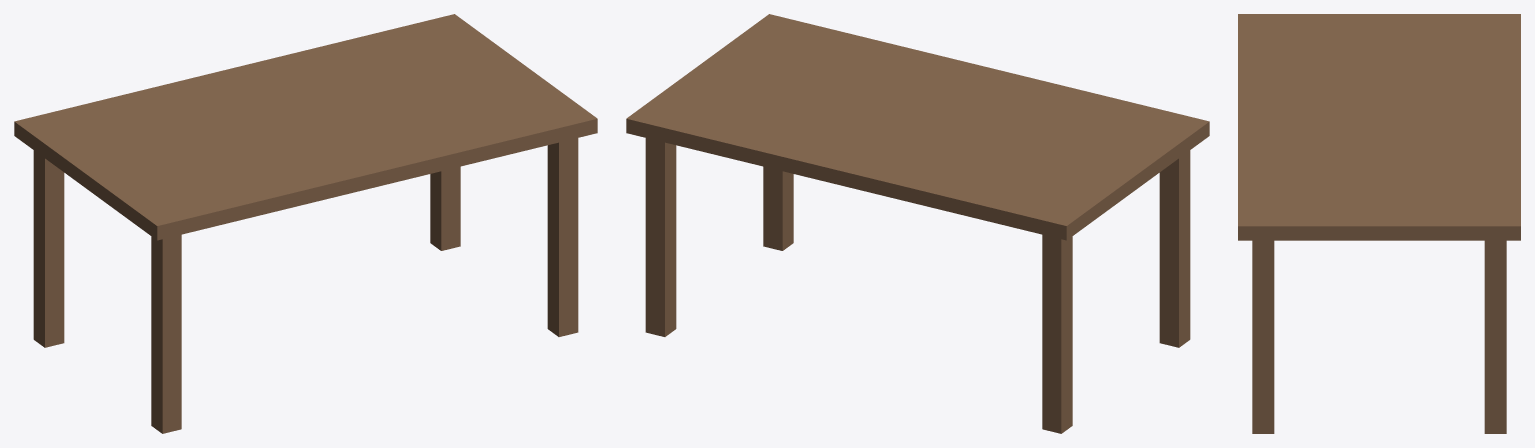
The model's file is dining-table.glb.
3 views of the same model, side by side, from view 1: azimuth 30°, elevation 25°; view 2: azimuth 150°, elevation 25°; view 3: azimuth 270°, elevation 25° (orthographic).
Visible parts, largest first — view 1: dining table; view 2: dining table; view 3: dining table.
Boxes of the visible parts, x1,y1,x2,y2 form: dining table: (14, 14, 597, 433); dining table: (626, 14, 1209, 433); dining table: (1238, 14, 1520, 433).
Bounding box in the file's own units: 1.6 × 0.75 × 0.9.
